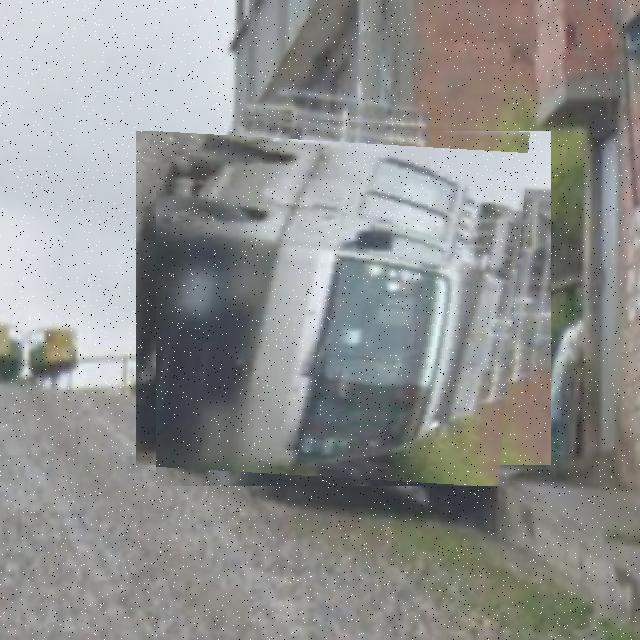car: (157, 111, 531, 487)
